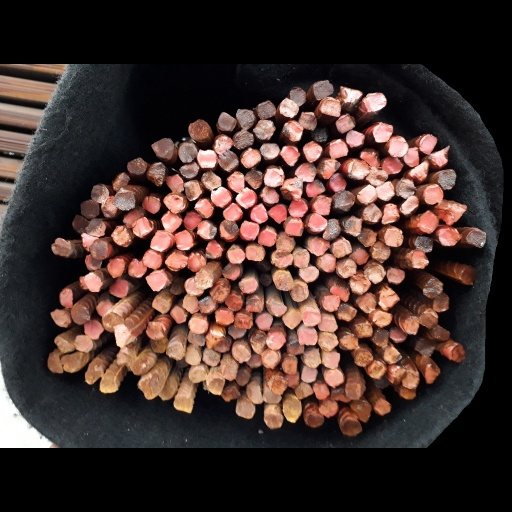dipstick: (442, 202, 466, 224), (138, 378, 160, 399), (151, 138, 173, 159), (355, 292, 377, 313), (114, 324, 135, 345), (409, 160, 430, 181), (253, 119, 275, 139), (418, 211, 438, 233), (132, 216, 152, 237), (240, 148, 261, 168), (349, 274, 370, 294), (320, 97, 341, 117), (366, 166, 387, 186), (145, 272, 167, 291), (333, 191, 355, 210), (294, 163, 316, 182), (347, 160, 369, 179), (364, 92, 386, 111), (406, 249, 428, 268), (165, 253, 188, 271), (211, 187, 231, 207), (218, 151, 238, 171), (236, 109, 256, 129), (235, 188, 255, 208), (379, 290, 399, 310), (51, 238, 72, 257), (112, 226, 131, 247), (102, 312, 123, 331), (271, 250, 293, 268), (150, 231, 170, 250), (50, 309, 70, 328), (146, 321, 166, 340), (161, 213, 181, 232), (189, 119, 208, 139), (267, 375, 287, 394), (352, 403, 372, 422), (279, 98, 299, 117), (314, 80, 333, 100), (335, 114, 355, 133), (388, 137, 408, 156), (395, 178, 414, 198), (114, 192, 135, 210), (147, 162, 165, 183), (361, 204, 382, 222), (382, 156, 403, 174), (438, 228, 459, 246), (422, 279, 443, 297), (339, 419, 361, 436), (323, 218, 340, 240), (339, 85, 361, 102), (71, 306, 90, 325), (84, 320, 103, 339), (220, 220, 239, 239), (178, 143, 197, 162), (197, 149, 216, 168), (217, 112, 236, 131), (244, 170, 263, 189), (337, 258, 356, 277), (365, 264, 384, 283), (268, 204, 287, 223), (361, 148, 380, 167), (373, 123, 392, 142), (400, 196, 419, 215), (142, 251, 162, 269), (163, 194, 183, 212), (213, 135, 233, 153), (367, 359, 385, 379), (290, 281, 308, 301), (357, 185, 377, 203), (303, 142, 321, 162), (282, 122, 302, 140), (227, 171, 244, 192), (272, 273, 293, 290), (382, 203, 399, 224), (47, 352, 63, 374), (91, 184, 109, 203), (80, 200, 99, 218), (107, 258, 125, 277), (109, 278, 127, 297), (61, 354, 80, 372), (184, 277, 203, 295), (210, 285, 229, 303), (256, 100, 275, 118), (318, 333, 337, 351), (276, 233, 294, 252), (343, 216, 361, 235), (288, 199, 307, 217), (419, 135, 437, 154), (376, 181, 394, 200), (430, 147, 448, 166), (438, 170, 456, 189), (425, 185, 443, 204), (466, 229, 485, 247), (173, 396, 193, 413), (318, 400, 338, 417), (309, 238, 329, 255), (264, 169, 284, 186), (281, 146, 298, 166), (289, 87, 306, 107), (345, 383, 366, 399), (285, 179, 301, 200), (81, 233, 99, 251), (128, 259, 146, 277), (117, 348, 135, 366), (187, 254, 205, 272), (175, 232, 193, 250), (197, 221, 215, 239), (202, 171, 220, 189), (283, 404, 301, 422), (285, 218, 303, 236), (308, 213, 326, 231), (358, 228, 376, 246), (322, 160, 340, 178), (298, 112, 316, 130), (372, 243, 390, 261), (127, 157, 146, 174), (86, 219, 105, 236), (84, 273, 101, 292), (74, 335, 93, 352), (195, 199, 212, 218), (223, 203, 242, 220), (240, 220, 259, 237), (179, 161, 198, 178), (234, 131, 253, 148), (250, 204, 267, 223), (261, 349, 278, 368), (325, 369, 344, 386), (298, 328, 317, 345), (302, 310, 321, 327), (330, 285, 349, 302), (292, 248, 309, 267), (333, 240, 352, 257), (345, 130, 364, 147), (384, 229, 403, 246), (402, 369, 419, 388), (54, 336, 74, 352), (188, 318, 208, 334), (214, 309, 234, 325), (184, 180, 200, 200), (244, 245, 264, 261), (403, 146, 419, 166), (415, 338, 435, 354), (112, 173, 129, 191), (90, 241, 107, 259), (142, 196, 160, 213), (96, 299, 113, 317), (184, 347, 201, 365), (203, 348, 220, 366), (194, 271, 212, 288), (222, 263, 240, 280), (184, 212, 201, 230), (166, 175, 183, 193), (261, 186, 279, 203), (266, 332, 284, 349), (284, 312, 302, 329), (338, 304, 356, 321), (313, 197, 331, 214), (329, 141, 347, 158), (432, 293, 449, 311), (373, 310, 391, 327), (420, 310, 437, 328), (447, 343, 464, 361), (383, 346, 401, 363), (224, 295, 243, 311), (260, 143, 279, 159), (258, 230, 277, 246), (251, 334, 267, 353), (264, 412, 283, 428), (306, 180, 325, 196), (372, 328, 388, 347), (101, 197, 116, 217), (298, 267, 318, 282), (59, 288, 73, 309), (233, 345, 250, 362), (182, 296, 199, 313), (198, 296, 215, 313), (204, 240, 221, 257), (329, 173, 346, 190), (72, 215, 88, 233), (152, 297, 170, 313), (189, 367, 207, 383), (167, 343, 185, 359), (236, 402, 254, 418), (247, 385, 263, 403), (205, 332, 223, 348), (295, 383, 313, 399), (319, 316, 337, 332), (322, 295, 340, 311), (319, 254, 335, 272), (387, 268, 405, 284), (388, 365, 404, 383), (227, 324, 246, 339), (414, 236, 433, 251), (404, 315, 419, 334), (99, 378, 119, 392), (238, 279, 258, 293), (150, 337, 167, 353), (208, 378, 224, 395), (220, 362, 236, 379), (170, 306, 186, 323), (313, 382, 329, 399), (323, 352, 340, 368), (304, 350, 321, 366), (355, 350, 372, 366), (351, 248, 368, 264), (374, 398, 390, 415), (234, 313, 252, 328), (227, 248, 245, 263), (268, 300, 286, 315), (339, 335, 358, 349), (425, 364, 439, 383), (85, 368, 101, 384), (301, 366, 317, 382), (85, 254, 102, 269), (235, 369, 250, 386), (214, 337, 231, 352), (282, 356, 297, 373), (287, 340, 304, 355), (390, 327, 407, 342), (187, 332, 205, 346), (305, 413, 323, 427), (354, 323, 372, 337), (131, 359, 147, 374), (256, 314, 272, 329), (433, 326, 449, 341), (222, 387, 239, 401), (245, 298, 262, 312), (461, 267, 475, 284), (263, 391, 281, 403), (247, 354, 262, 368), (285, 373, 298, 388), (399, 387, 415, 399), (79, 276, 88, 289)
